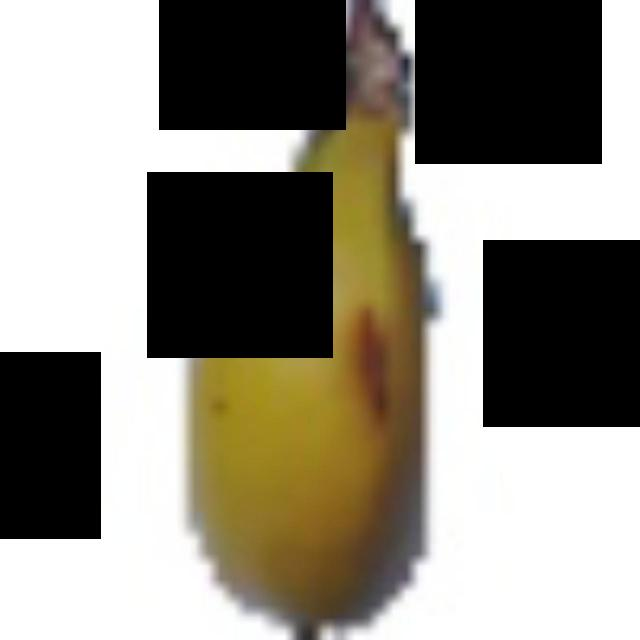banana: (166, 0, 467, 634)
